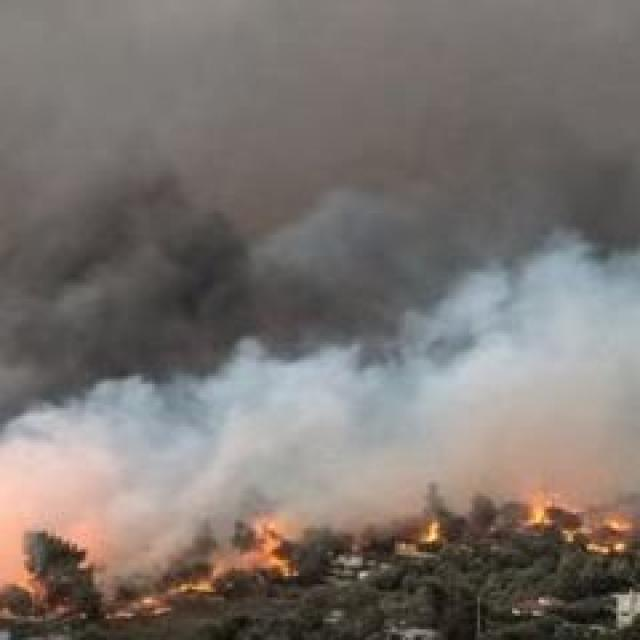Fire: (246, 516, 294, 586), (164, 567, 223, 602), (516, 489, 558, 532), (419, 514, 451, 548), (580, 535, 632, 554), (600, 514, 637, 530)
Smoke: (9, 0, 634, 558)
